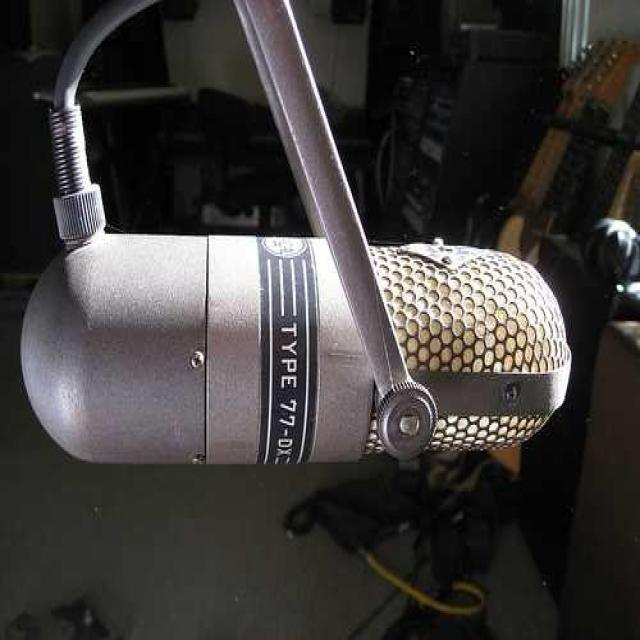microphone: (23, 220, 567, 461)
